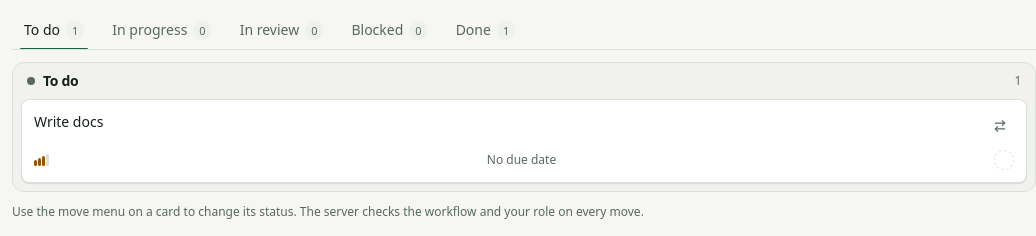
Test: KanbanBoard (mobile) › shows one column at a time behind tabs
Expected: the element named "Board columns" is shown, [12,12,1035,50]
Expected: the link "Write docs" is shown, [34,112,103,131]
Step 1. Click the tab "Done1" → (485, 30), box [444,12,527,49]
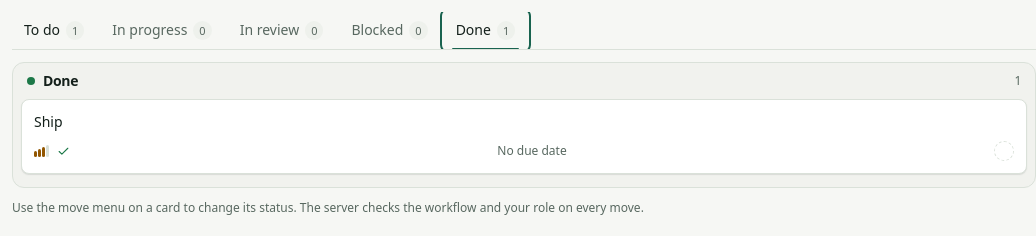
Result: the link "Ship" is shown at [34,112,63,131]
